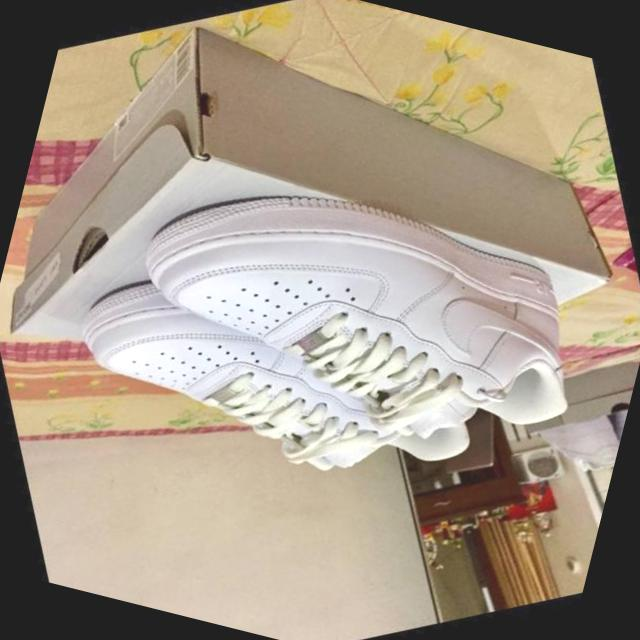nike_original_airforce: (74, 40, 640, 585), (16, 142, 527, 609)
